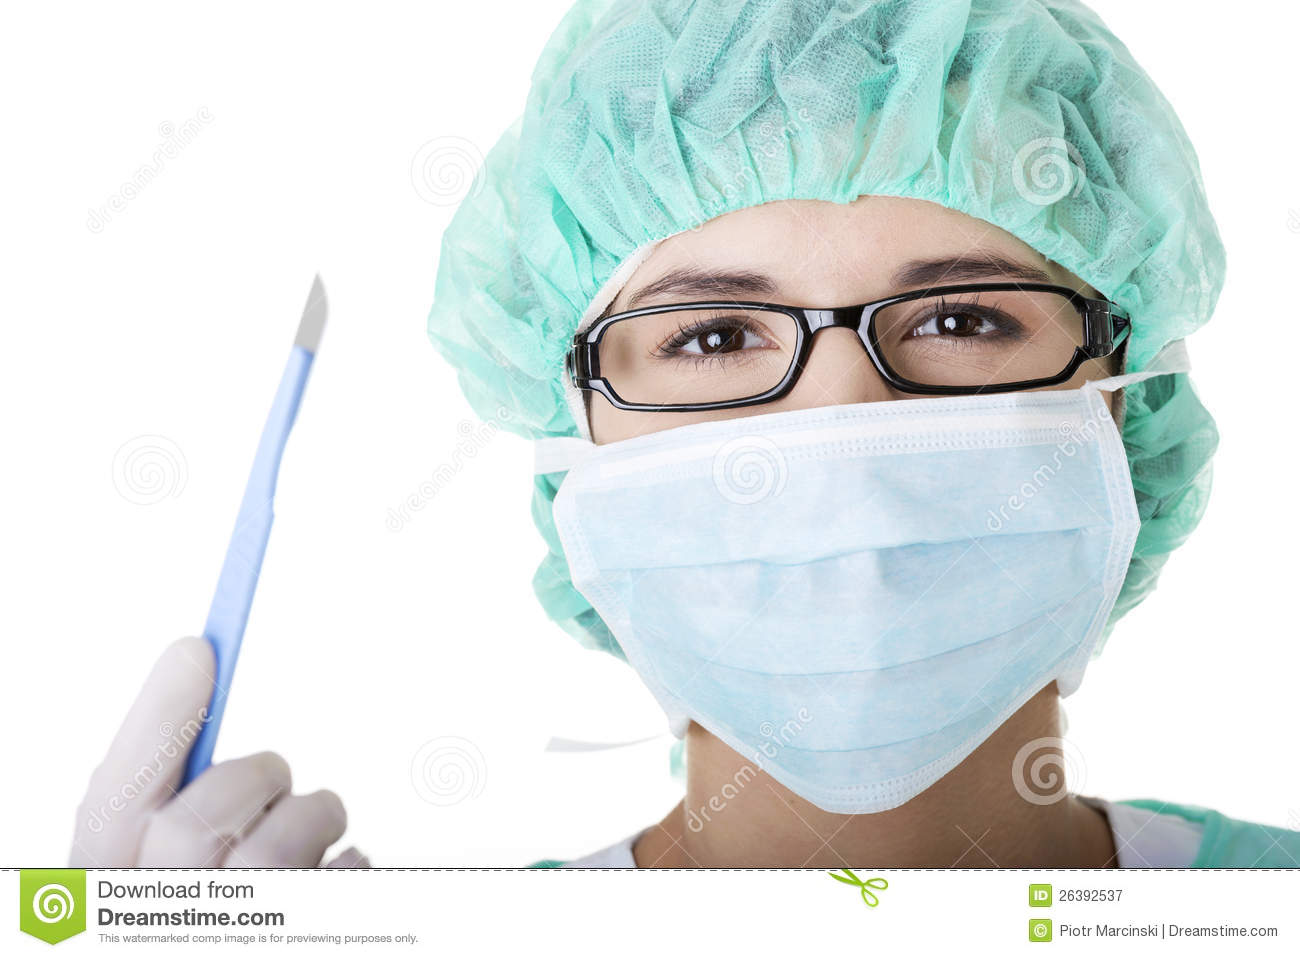mask: (536, 382, 1160, 792)
